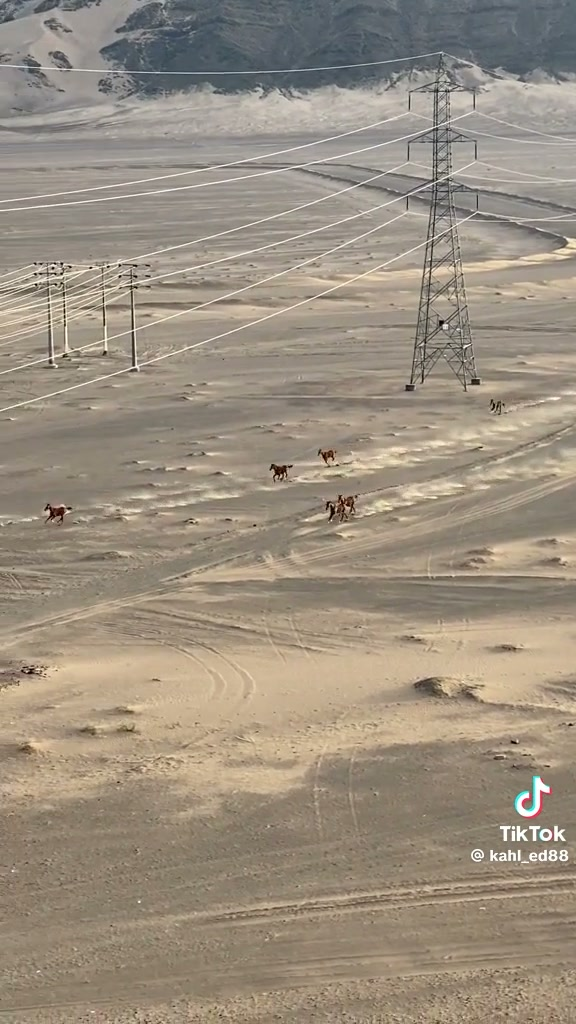animal: (44, 503, 71, 523), (325, 500, 348, 521), (270, 463, 292, 481), (337, 494, 357, 513), (318, 449, 335, 464), (490, 399, 504, 414)
vehicle_track: (0, 926, 570, 1019), (0, 936, 564, 1021), (0, 940, 564, 1023), (0, 528, 252, 647), (182, 866, 575, 926), (0, 553, 242, 647), (197, 870, 575, 924), (1, 560, 221, 647), (110, 612, 255, 700), (117, 622, 256, 701), (421, 420, 575, 483), (107, 624, 228, 703), (421, 421, 575, 483), (109, 625, 226, 700), (449, 474, 575, 529), (210, 838, 318, 884), (186, 636, 256, 699), (153, 605, 269, 643), (159, 639, 225, 699), (298, 164, 423, 195), (196, 641, 256, 700), (262, 613, 286, 663), (347, 748, 360, 838), (287, 613, 312, 659), (348, 761, 358, 837), (0, 569, 24, 591)
